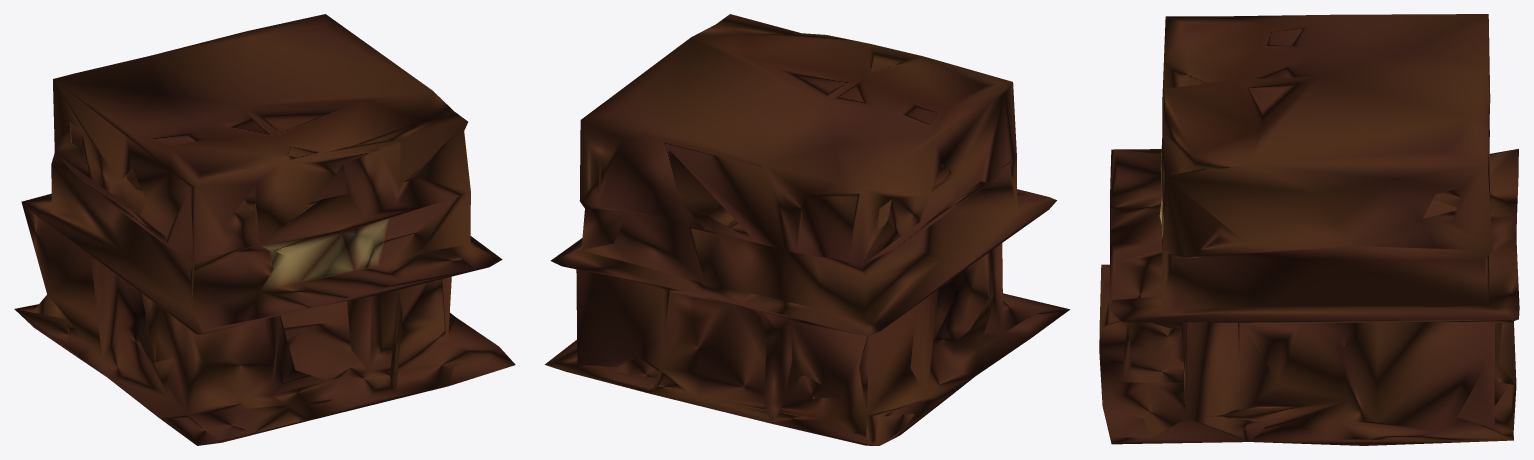
File: gen3d-western-saloon-lod1.glb
The picture shows the model from 3 angles, left to right: view 1: azimuth 30°, elevation 25°; view 2: azimuth 150°, elevation 25°; view 3: azimuth 270°, elevation 25°; orthographic projection. The views are drawn at different scales.
Parts seen in each view (by area): view 1: part_0; view 2: part_0; view 3: part_0.
Boxes of the visible parts, x1,y1,x2,y2 form: part_0: [14, 14, 515, 445]; part_0: [544, 14, 1069, 445]; part_0: [1099, 14, 1519, 445].
Bounding box in the file's own units: 1.41 × 0.9996 × 1.4.
